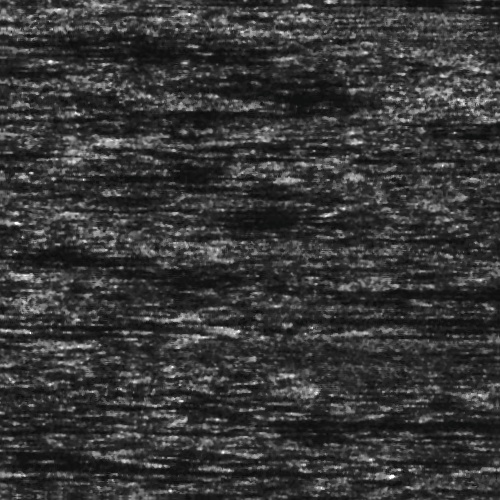object: (230, 164, 323, 187), (72, 453, 177, 468), (246, 150, 371, 161), (186, 320, 269, 333), (0, 468, 67, 479), (12, 344, 85, 349), (61, 152, 134, 157), (353, 467, 416, 472), (255, 52, 308, 57), (201, 464, 254, 469), (0, 219, 21, 226), (0, 69, 9, 82), (0, 273, 26, 276), (488, 329, 500, 334)
shadow: (107, 164, 277, 187), (6, 320, 227, 333), (321, 416, 500, 429), (348, 280, 500, 293), (0, 453, 124, 468), (74, 467, 385, 472), (196, 150, 308, 161), (56, 52, 281, 57), (9, 464, 227, 469), (455, 110, 500, 129), (345, 313, 500, 318), (362, 329, 500, 334), (0, 152, 97, 157), (0, 344, 49, 349)
